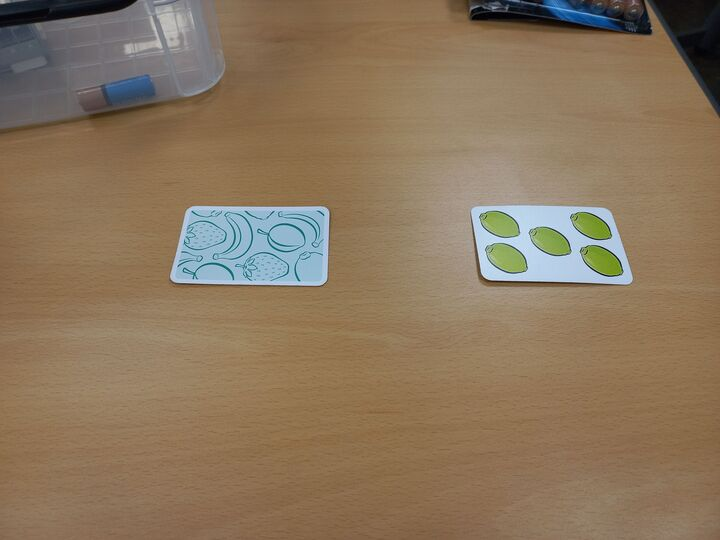lime5: (470, 204, 637, 289)
